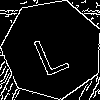L: (27, 24, 71, 77)
